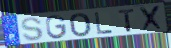G: (45, 14, 68, 40)
L: (94, 11, 115, 35)
O: (68, 12, 92, 38)
S: (20, 17, 45, 42)
T: (118, 8, 137, 33)
X: (138, 4, 164, 32)
